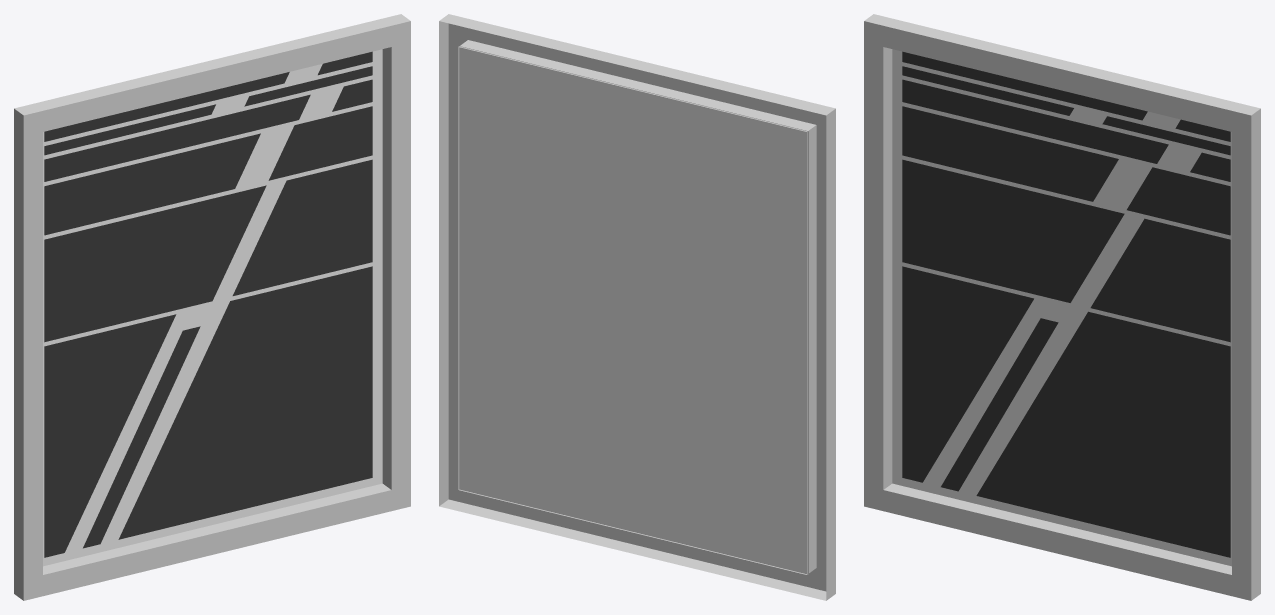
Rendered from picture_012.glb.
3 views of the same model, side by side, from view 1: azimuth 30°, elevation 25°; view 2: azimuth 150°, elevation 25°; view 3: azimuth 330°, elevation 25° (orthographic).
Parts seen in each view (by area): view 1: picture_012; view 2: picture_012; view 3: picture_012.
Boxes of the visible parts, x1,y1,x2,y2 form: picture_012: (14, 14, 410, 600); picture_012: (439, 14, 835, 600); picture_012: (864, 14, 1260, 600).
Bounding box in the file's own units: 0.4535 × 0.5433 × 0.0196.
1 material, 1 textured.
